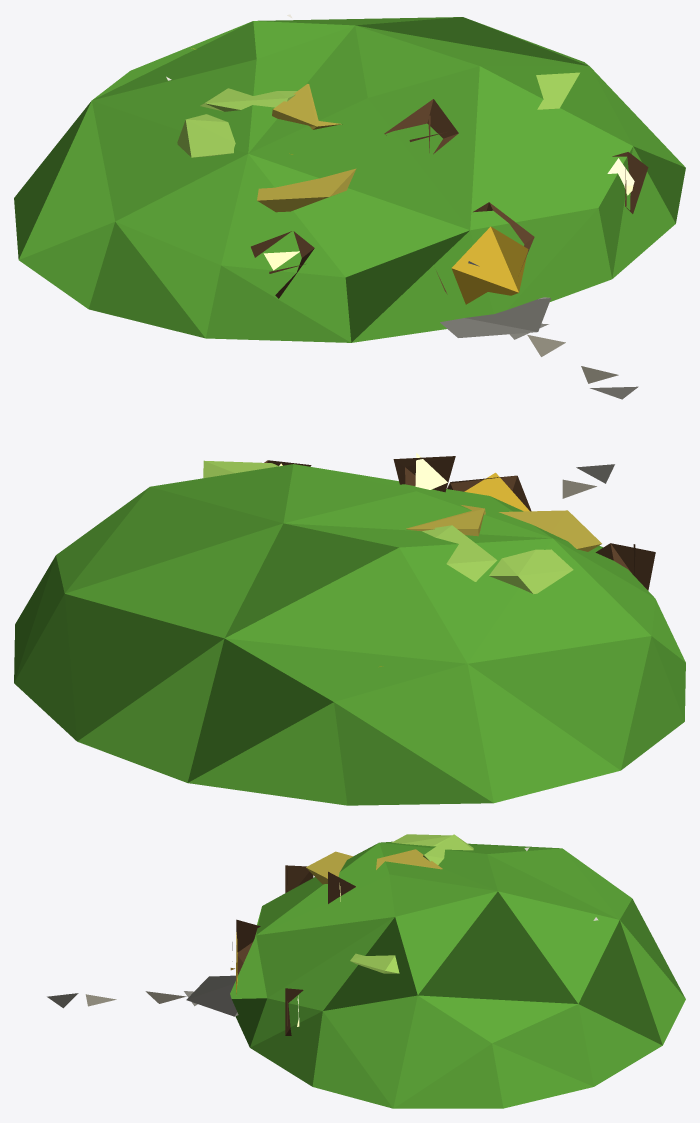
File: hobbit_hole_3_lod2.glb
3 renders of one model, top to bottom at view 1: azimuth 30°, elevation 25°; view 2: azimuth 150°, elevation 25°; view 3: azimuth 270°, elevation 25°, orthographic. The views are drawn at different scales.
Visible parts, largest first — view 1: hobbit_hole_3_lod2; view 2: hobbit_hole_3_lod2; view 3: hobbit_hole_3_lod2.
Boxes of the visible parts, x1,y1,x2,y2 form: hobbit_hole_3_lod2: (14,14,685,399); hobbit_hole_3_lod2: (14,453,685,805); hobbit_hole_3_lod2: (47,834,685,1108).
Bounding box in the file's own units: 15.04 × 3.96 × 19.23.
